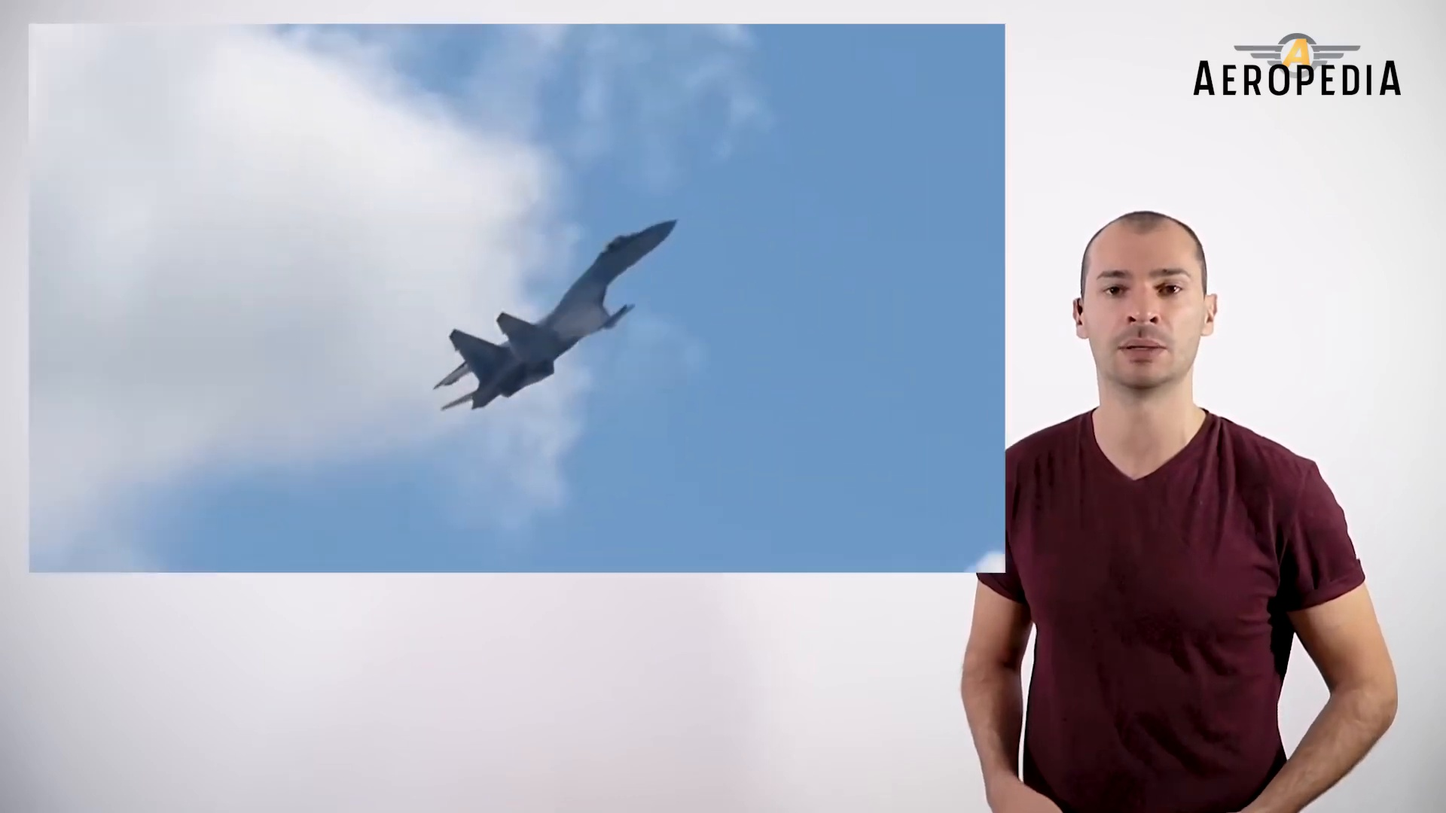Su35: (432, 221, 676, 411)
